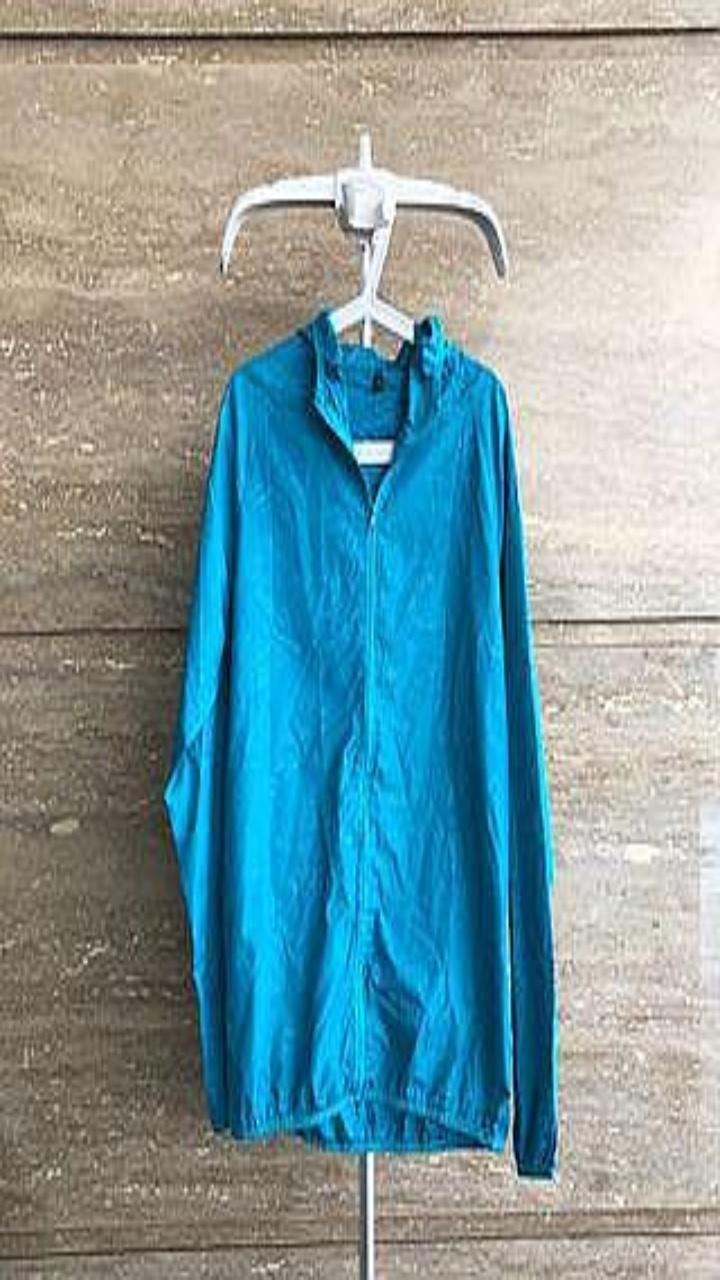T-Shirt: (164, 307, 557, 1177)
